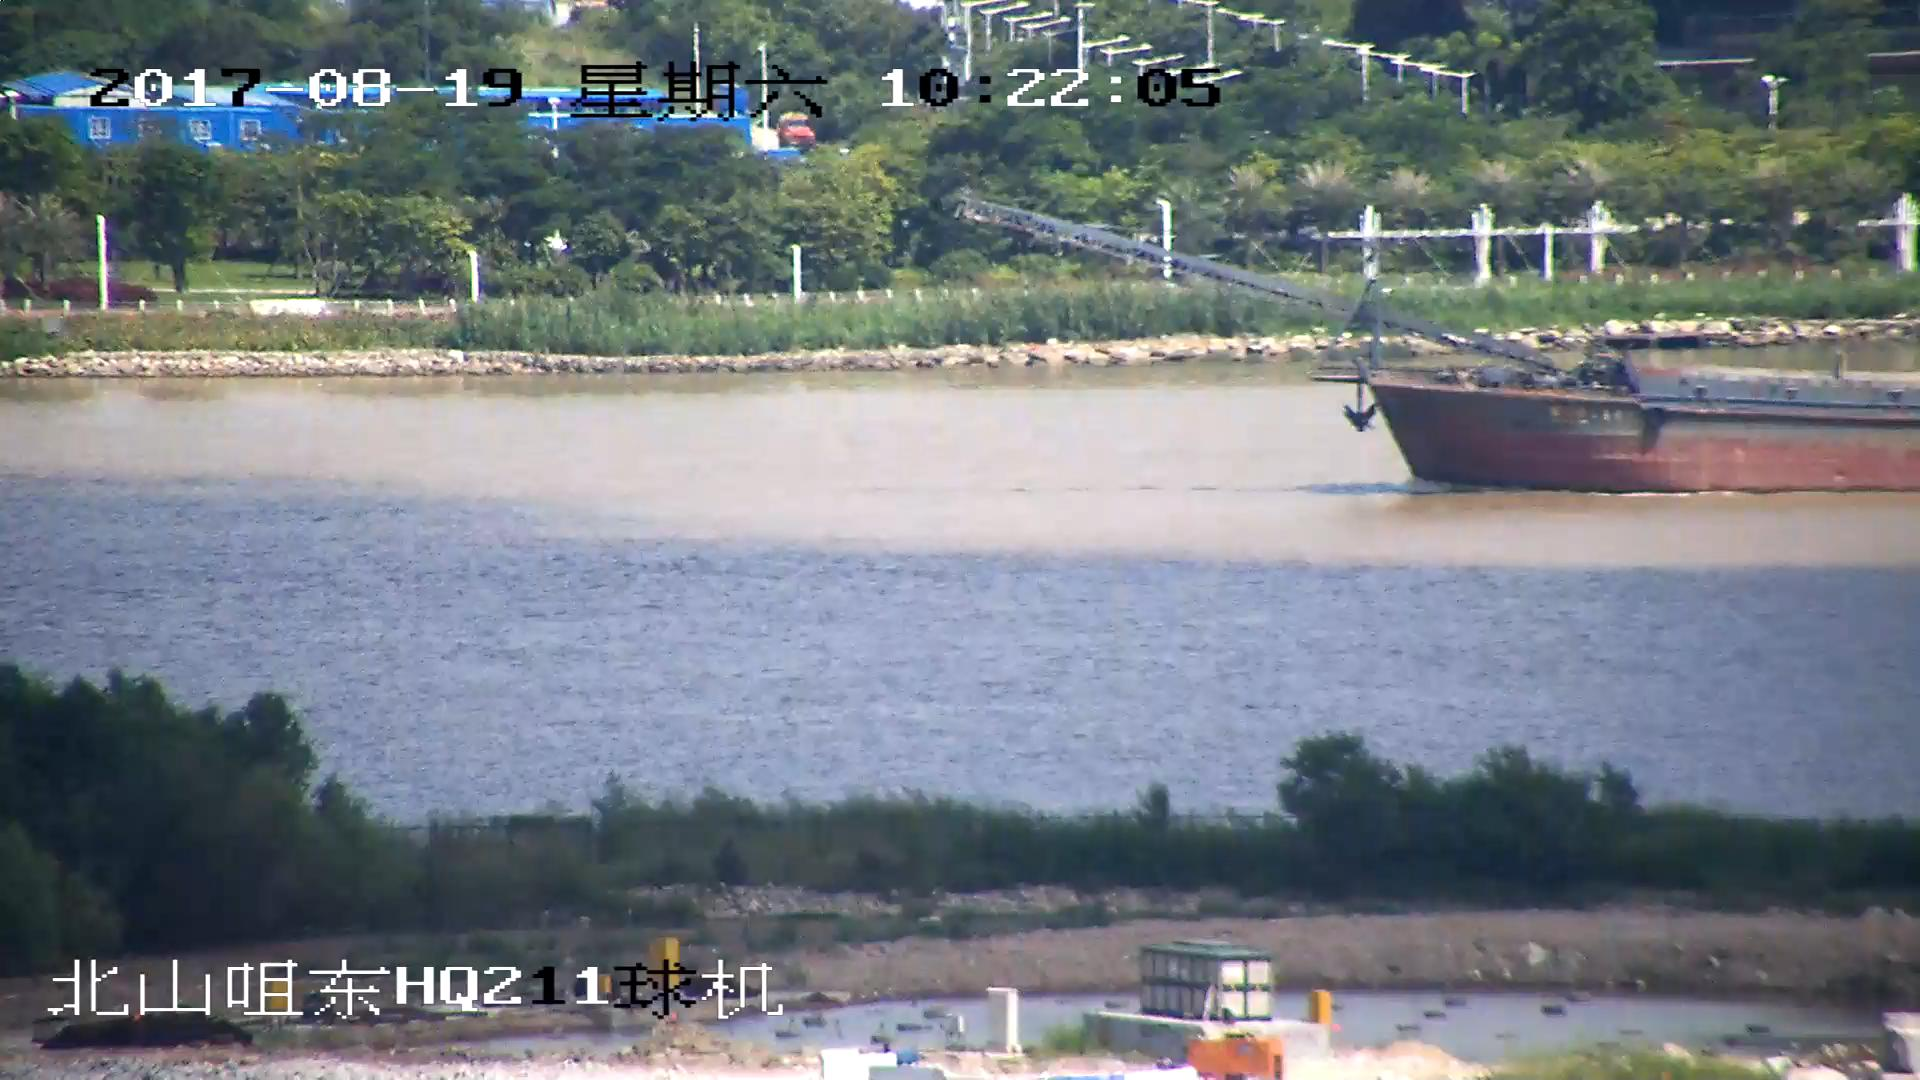bulk cargo carrier: (959, 192, 1920, 495)
